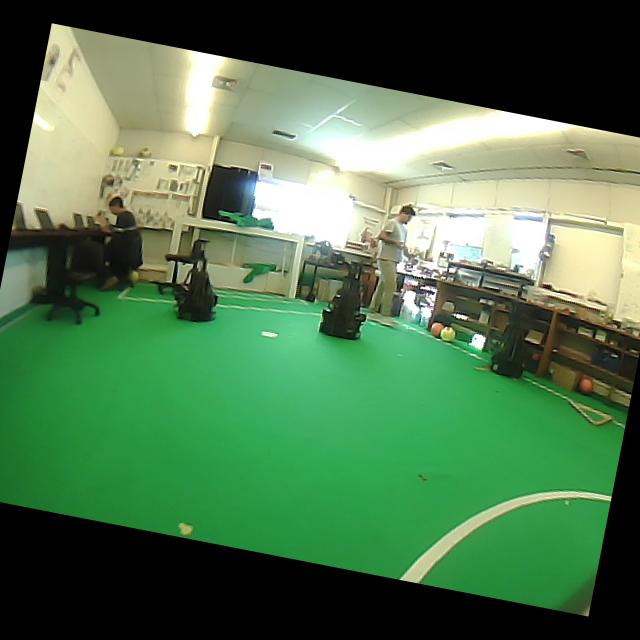ball: (578, 376, 594, 394), (440, 326, 455, 341), (431, 322, 444, 337), (129, 269, 139, 286), (139, 147, 152, 158), (109, 147, 124, 156)
goal: (288, 237, 304, 298)
robot: (175, 239, 217, 321), (319, 265, 365, 339), (490, 302, 529, 378)
